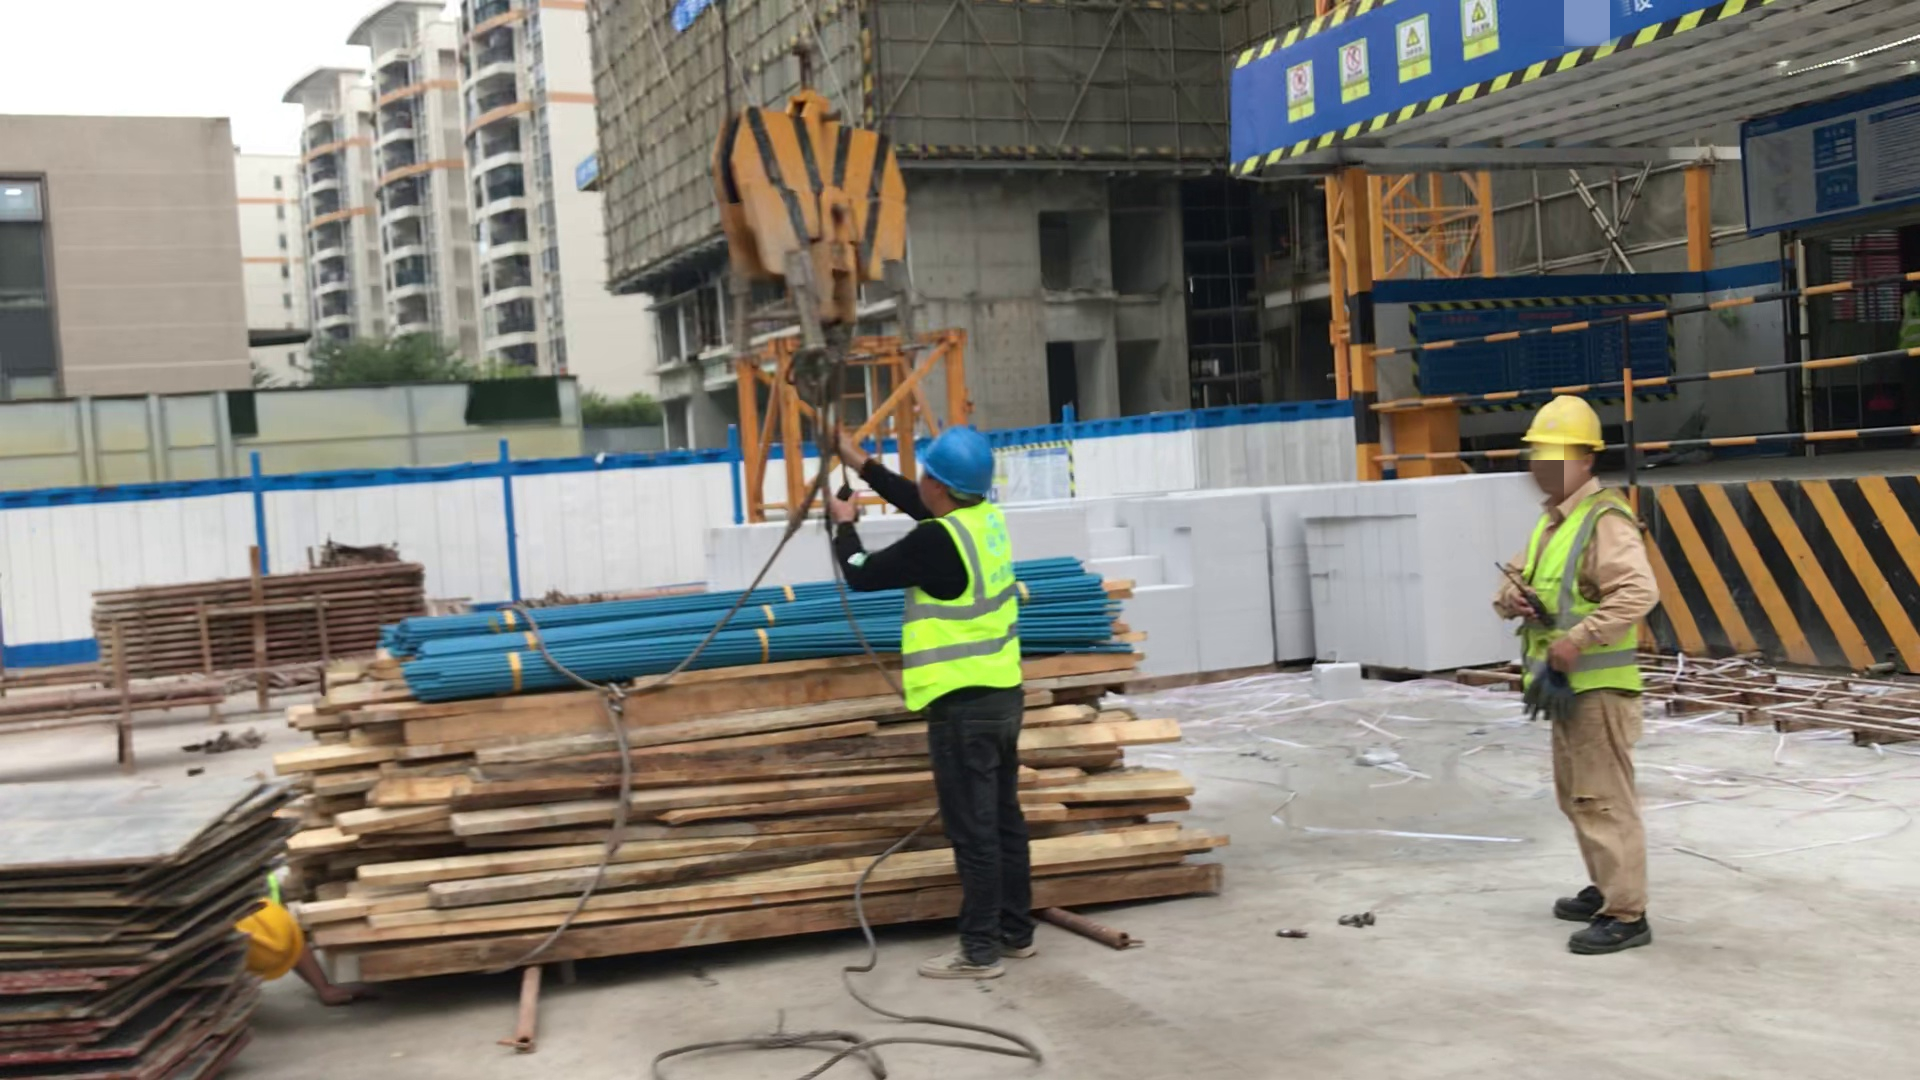board: (3, 772, 296, 1080)
brick: (1076, 489, 1538, 659), (705, 523, 900, 584)
helmet: (910, 422, 1007, 491), (1517, 391, 1614, 456)
hook: (704, 72, 917, 397)
person: (877, 416, 1054, 985), (1510, 380, 1667, 961)
scaffold: (84, 554, 449, 685)
slogan: (1278, 1, 1529, 125), (571, 141, 613, 193)
vest: (894, 506, 1038, 695), (1529, 494, 1647, 705)
wood: (311, 656, 1196, 930)
